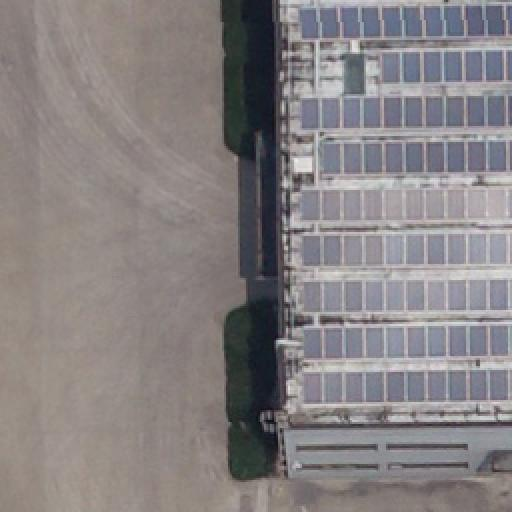solar-panel: (297, 319, 511, 361), (297, 365, 511, 403), (296, 186, 512, 222), (296, 96, 512, 132), (297, 276, 511, 312), (296, 231, 512, 265), (296, 3, 512, 37), (321, 141, 511, 179), (377, 50, 511, 86)
